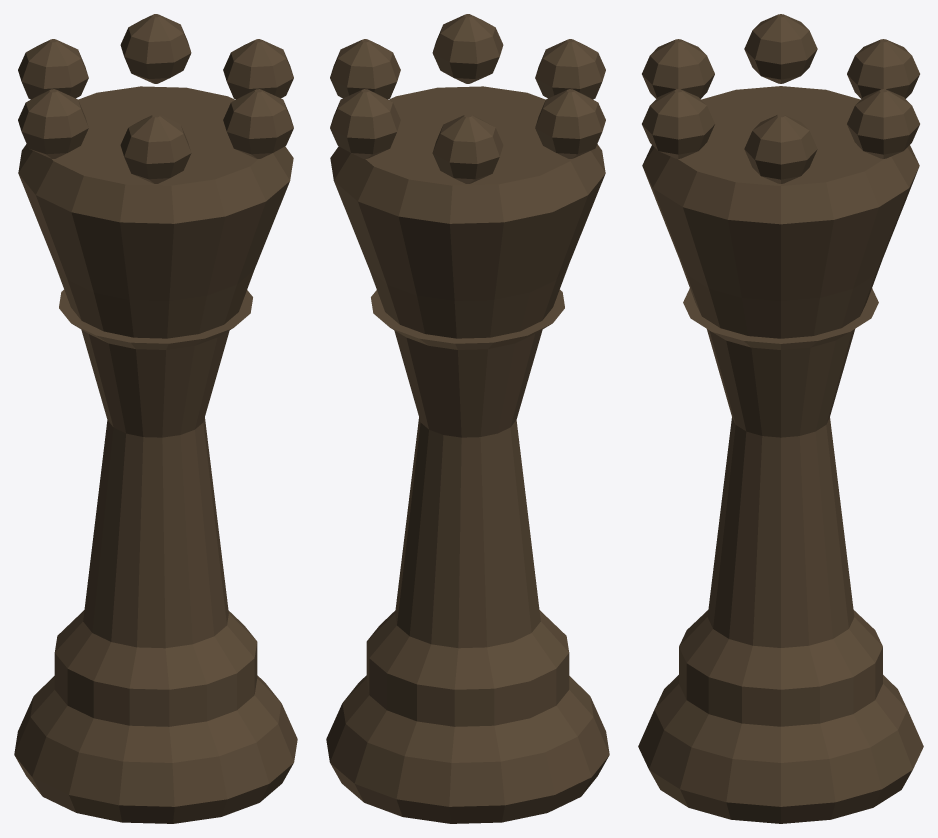
Rendered from SM_IntellectualGrandpaHouse_Chess_Black_Queen.fbx.
3 views of the same model, side by side, from view 1: azimuth 30°, elevation 25°; view 2: azimuth 150°, elevation 25°; view 3: azimuth 270°, elevation 25° (orthographic).
Parts seen in each view (by area): view 1: SM_IntellectualGrandpaHouse_Chess_Black_Queen; view 2: SM_IntellectualGrandpaHouse_Chess_Black_Queen; view 3: SM_IntellectualGrandpaHouse_Chess_Black_Queen.
Boxes of the visible parts, box(x1,y1,x2,y2) form: SM_IntellectualGrandpaHouse_Chess_Black_Queen: box(14, 14, 297, 823); SM_IntellectualGrandpaHouse_Chess_Black_Queen: box(326, 14, 609, 823); SM_IntellectualGrandpaHouse_Chess_Black_Queen: box(638, 14, 923, 823).
Bounding box in the file's own units: 7.6 × 7 × 19.
